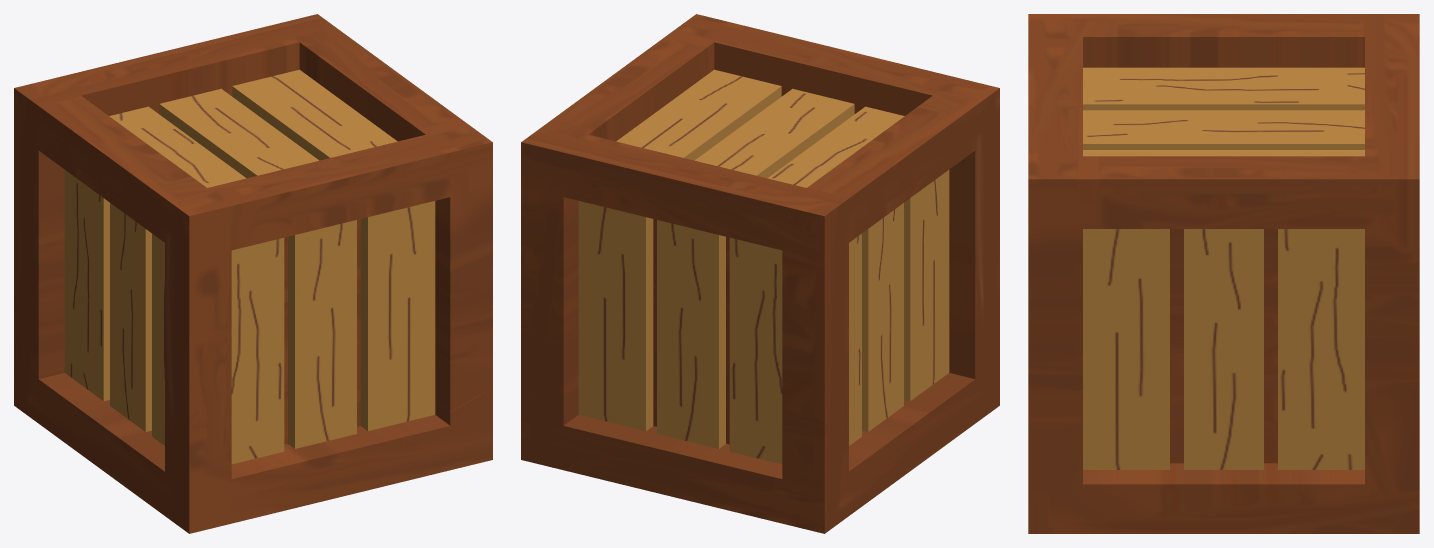
Rendered from BoxEdges.png.fbx.
The picture shows the model from 3 angles, left to right: view 1: azimuth 30°, elevation 25°; view 2: azimuth 150°, elevation 25°; view 3: azimuth 270°, elevation 25°; orthographic projection. The views are drawn at different scales.
Parts seen in each view (by area): view 1: Cube; view 2: Cube; view 3: Cube.
Boxes of the visible parts, left/top/right/bottom form: Cube: left=14, top=14, right=492, bottom=533; Cube: left=521, top=14, right=999, bottom=533; Cube: left=1028, top=14, right=1419, bottom=533.
Size of the model in its own units: 200 by 200 by 200.
Materials: 2 (2 with a texture image).
